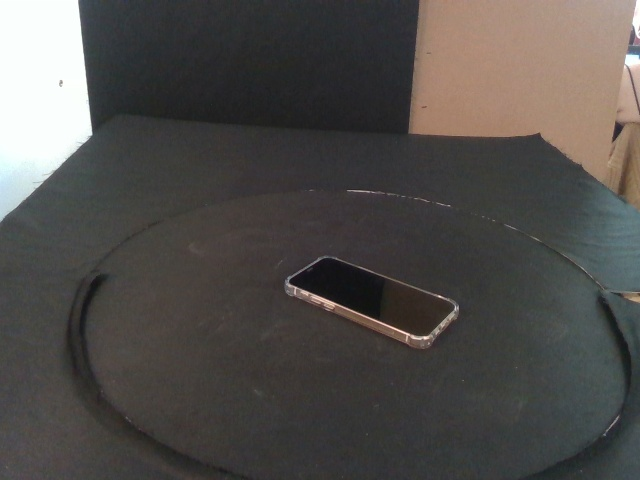phone: (283, 254, 461, 351)
